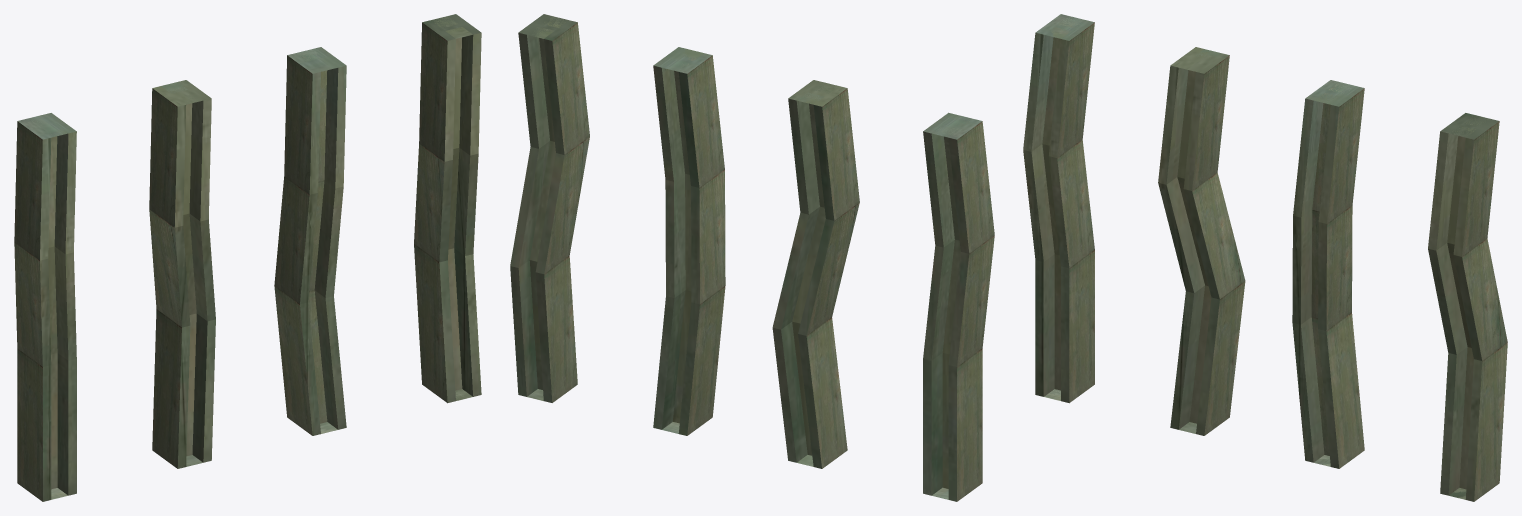
Rendered from barras detroços.fbx.
3 renders of one model, left to right at view 1: azimuth 30°, elevation 25°; view 2: azimuth 150°, elevation 25°; view 3: azimuth 330°, elevation 25°, orthographic.
Parts seen in each view (by area): view 1: pCube655, pCube654, pCube656, pCube653; view 2: pCube655, pCube654, pCube656, pCube653; view 3: pCube655, pCube654, pCube656, pCube653.
Part boxes in pixels (x1,y1,x2,y2): pCube655: (274,47,346,435); pCube654: (149,80,215,468); pCube656: (414,14,481,403); pCube653: (14,113,76,501); pCube655: (653,47,725,435); pCube654: (772,80,859,468); pCube656: (510,14,589,402); pCube653: (923,112,994,501); pCube655: (1292,80,1364,468); pCube654: (1158,47,1245,435); pCube656: (1428,113,1507,501); pCube653: (1023,14,1094,403).
Size of the model in its own units: 11 by 8.53 by 1.63.
